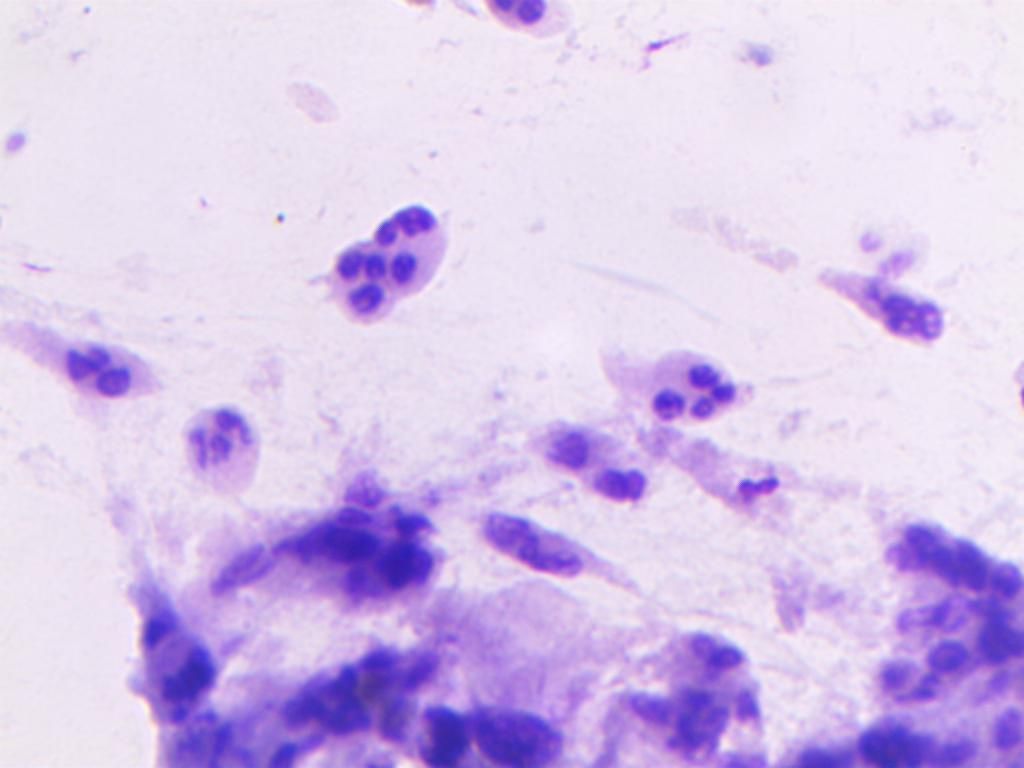neutrophil: (218, 492, 453, 624), (409, 627, 585, 766), (769, 245, 976, 358), (126, 611, 265, 768), (624, 631, 776, 768), (280, 644, 460, 754), (319, 191, 455, 334), (854, 615, 1024, 717), (581, 340, 757, 432), (876, 506, 1024, 608), (38, 307, 164, 414), (525, 411, 654, 515), (824, 703, 1019, 768), (460, 501, 596, 580), (162, 400, 278, 492), (453, 0, 583, 41)
